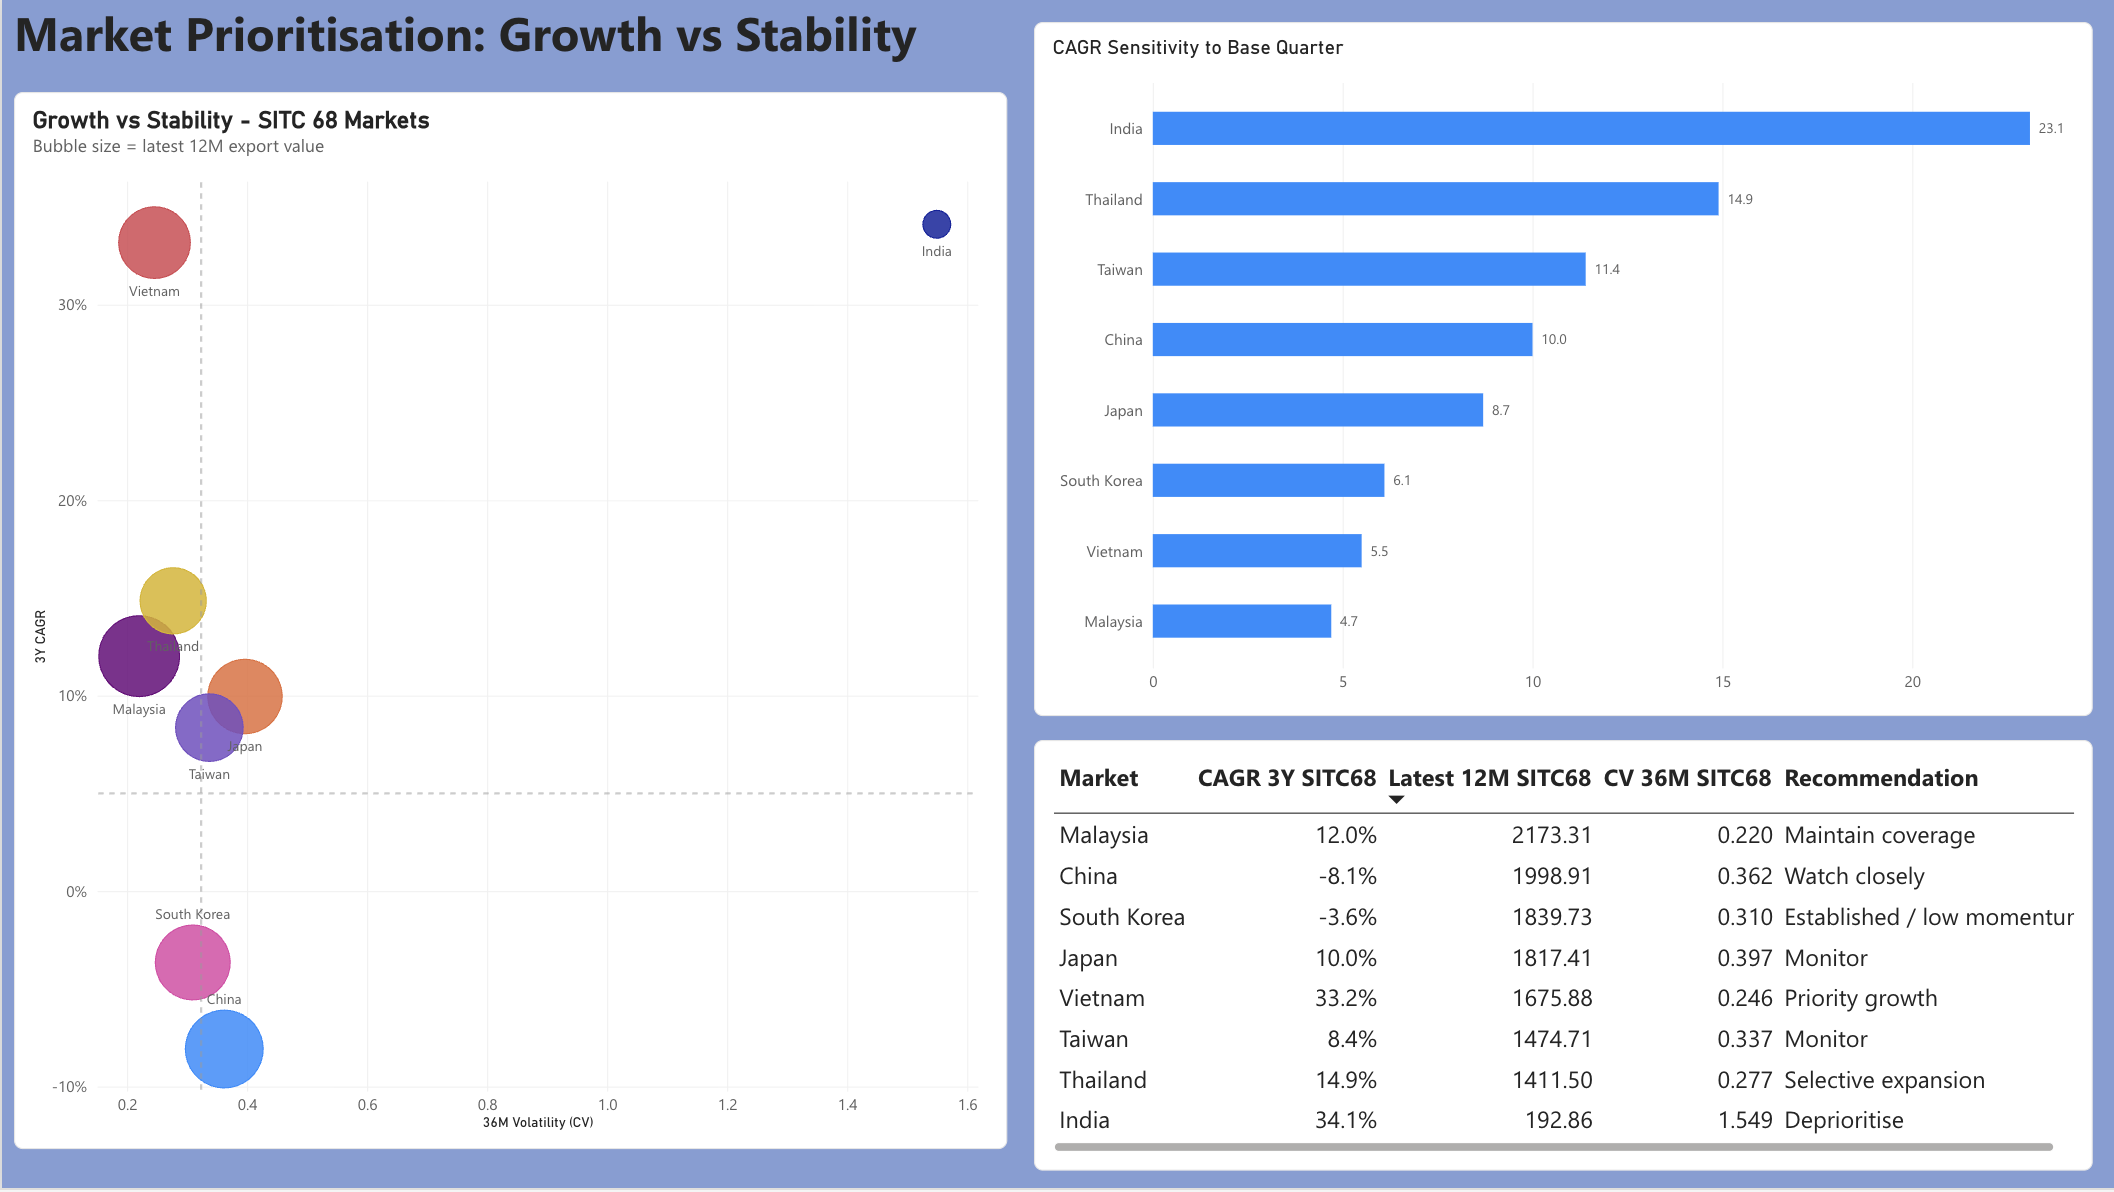

The dashboard page shown, as its layout file describes it:
{"tool":"powerbi","page":{"name":"Market Prioritisation","canvas":[1920,1080],"ordinal":1},"visuals":[{"type":"textbox","box":[10.6,0,862.3,83.3],"z":0},{"type":"scatterChart","title":"Growth vs Stability - SITC 68 Markets","fields":{"X":["Exports.CV 36M SITC68"],"Y":["Exports.CAGR 3Y SITC68"],"Size":["Exports.Latest 12M SITC68"],"Category":["Markets.Market"]},"box":[10.6,83.3,903.2,960.8],"z":1000},{"type":"clusteredBarChart","title":"CAGR Sensitivity to Base Quarter","fields":{"Category":["CAGRSensitivity.country"],"Y":["Avg(CAGRSensitivity.spread)"]},"box":[938.2,19.3,962.4,631.1],"z":2000},{"type":"tableEx","fields":{"Values":["Markets.Market","Exports.CAGR 3Y SITC68","Exports.Latest 12M SITC68","Exports.CV 36M SITC68","Markets.Recommendation"]},"box":[938.2,672.2,962.4,391.7],"z":3000}]}

Visuals, with their boxes in screenshot pixels (x1, y1, x2, y2), scaled from the page's 1920x1080 canvas onto the 2114x1192 screenshot:
textbox: locate(12, 0, 961, 92)
"Growth vs Stability - SITC 68 Markets" scatterChart: locate(12, 92, 1006, 1152)
"CAGR Sensitivity to Base Quarter" clusteredBarChart: locate(1033, 21, 2093, 718)
tableEx - Markets.Market x Exports.CAGR 3Y SITC68: locate(1033, 742, 2093, 1174)
